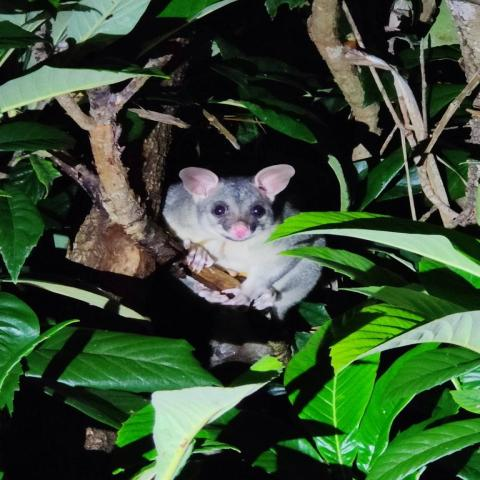small_animal: (160, 162, 328, 361)
